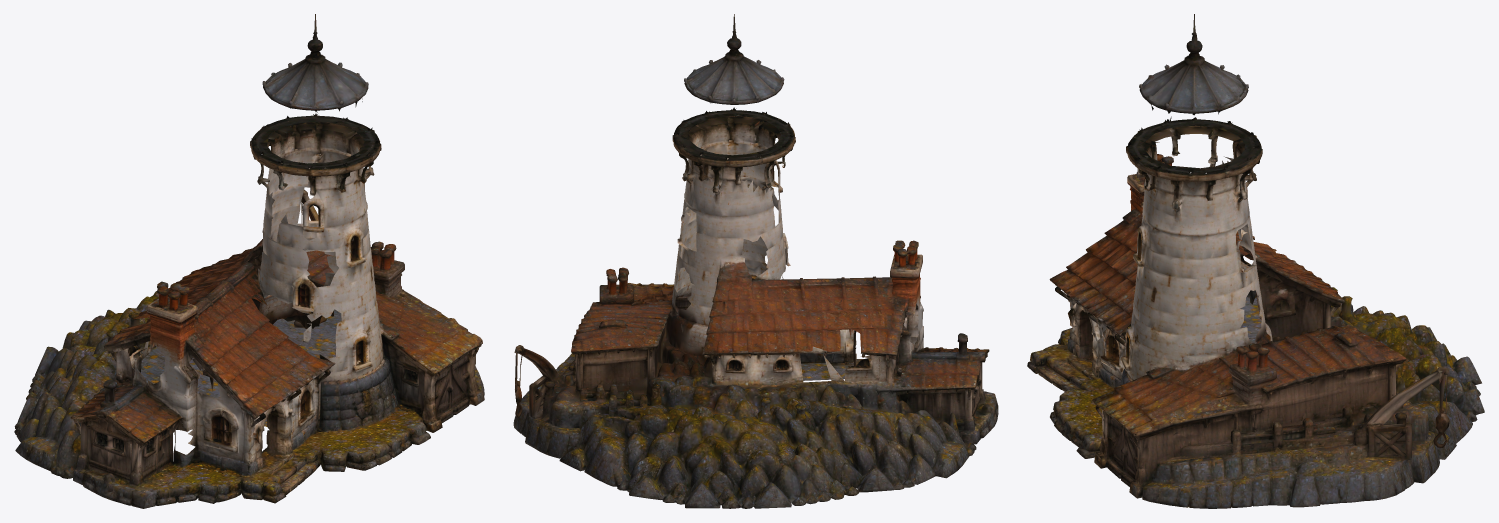
The model's file is exterior_carved_in.glb.
The picture shows the model from 3 angles, left to right: view 1: azimuth 30°, elevation 25°; view 2: azimuth 150°, elevation 25°; view 3: azimuth 270°, elevation 25°; orthographic projection. The views are drawn at different scales.
Parts seen in each view (by area): view 1: material; view 2: material; view 3: material.
Part boxes in pixels (x1,y1,x2,y2): material: (14, 14, 484, 508); material: (513, 14, 998, 508); material: (1027, 14, 1484, 508).
Bounding box in the file's own units: 30.05 × 27 × 27.07.
Materials: 1 (1 with a texture image).
